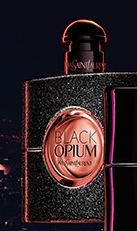ysl_black_opium: (16, 16, 107, 222)
